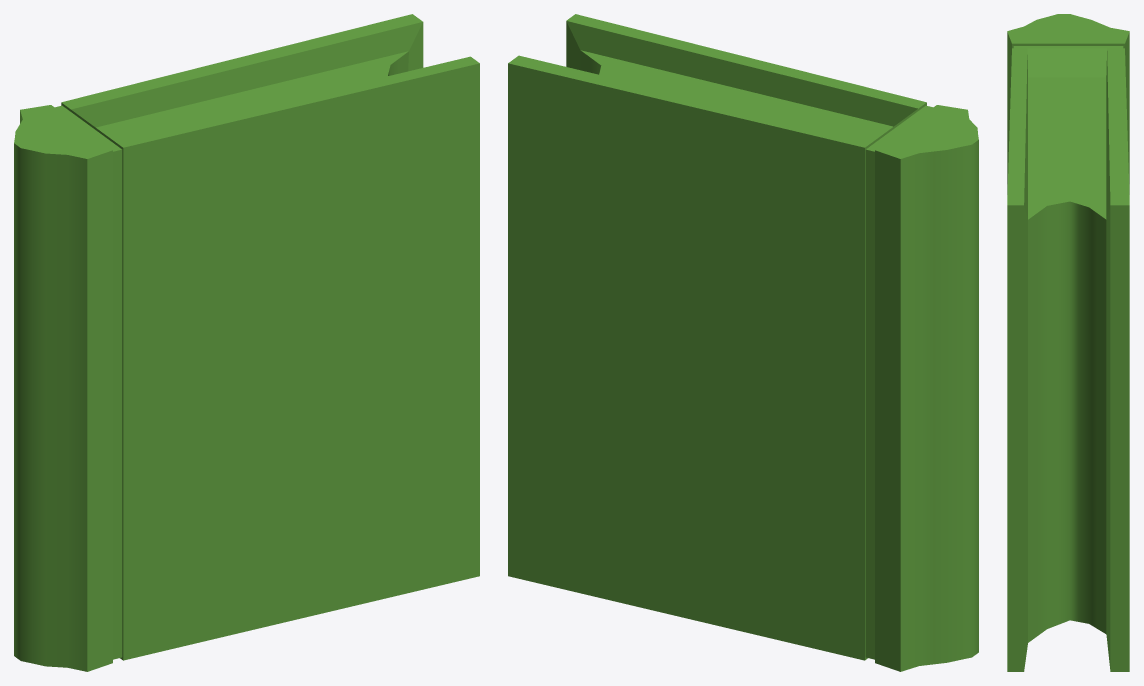
Rendered from book1.fbx.
3 renders of one model, left to right at view 1: azimuth 30°, elevation 25°; view 2: azimuth 150°, elevation 25°; view 3: azimuth 270°, elevation 25°, orthographic. The views are drawn at different scales.
Visible parts, largest first — view 1: libro12; view 2: libro12; view 3: libro12.
Part boxes in pixels (x1,y1,x2,y2): libro12: [14, 14, 479, 671]; libro12: [508, 14, 978, 671]; libro12: [1007, 14, 1129, 671].
Size of the model in its own units: 0.4625 by 0.5256 by 0.1252.
